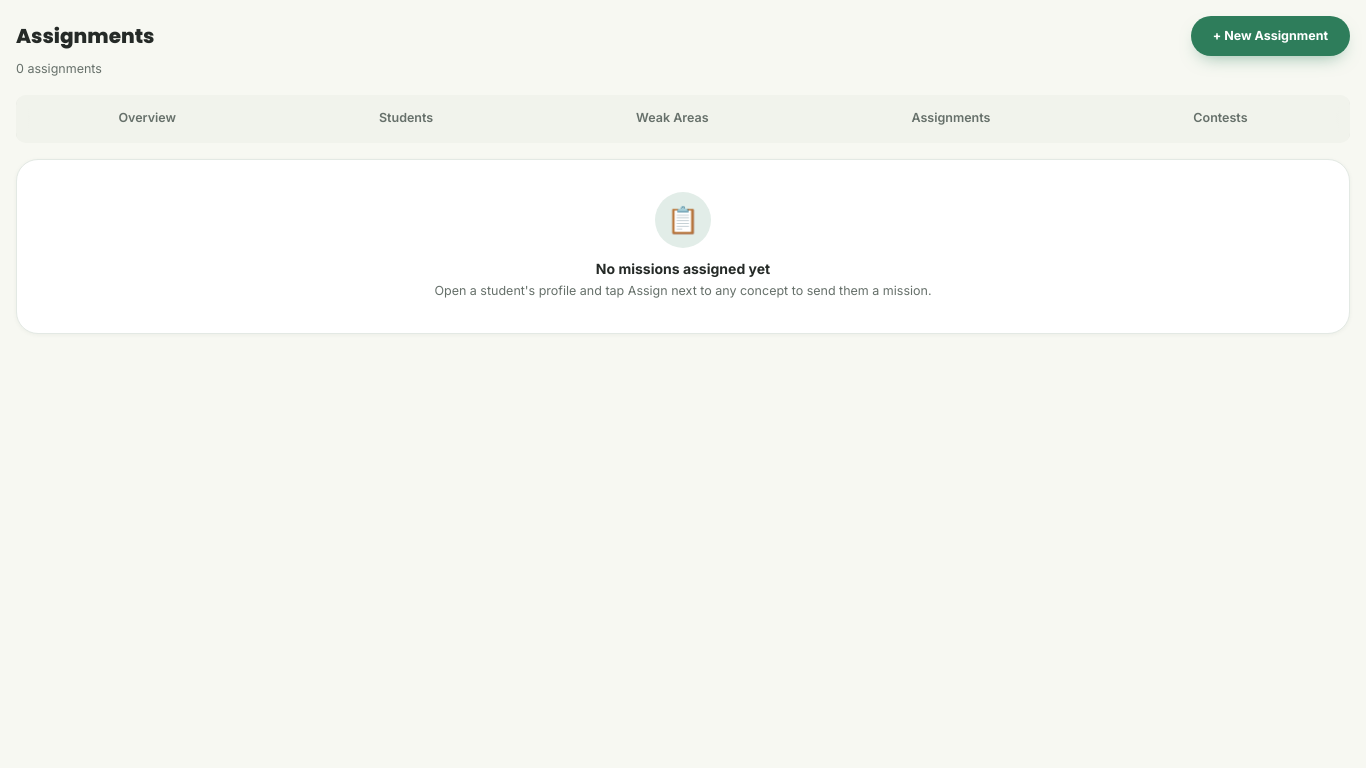
Test: TeacherAssignments › New Assignment modal: shows an empty state when the teacher has no sections
expect the text "No missions assigned yet" is shown: met, box [596,260,770,277]
What coordinates should you click on to do the following:
click the button "+ New Assignment"
I would click on:
 (1270, 36)
Its box is [1191,16,1350,56].
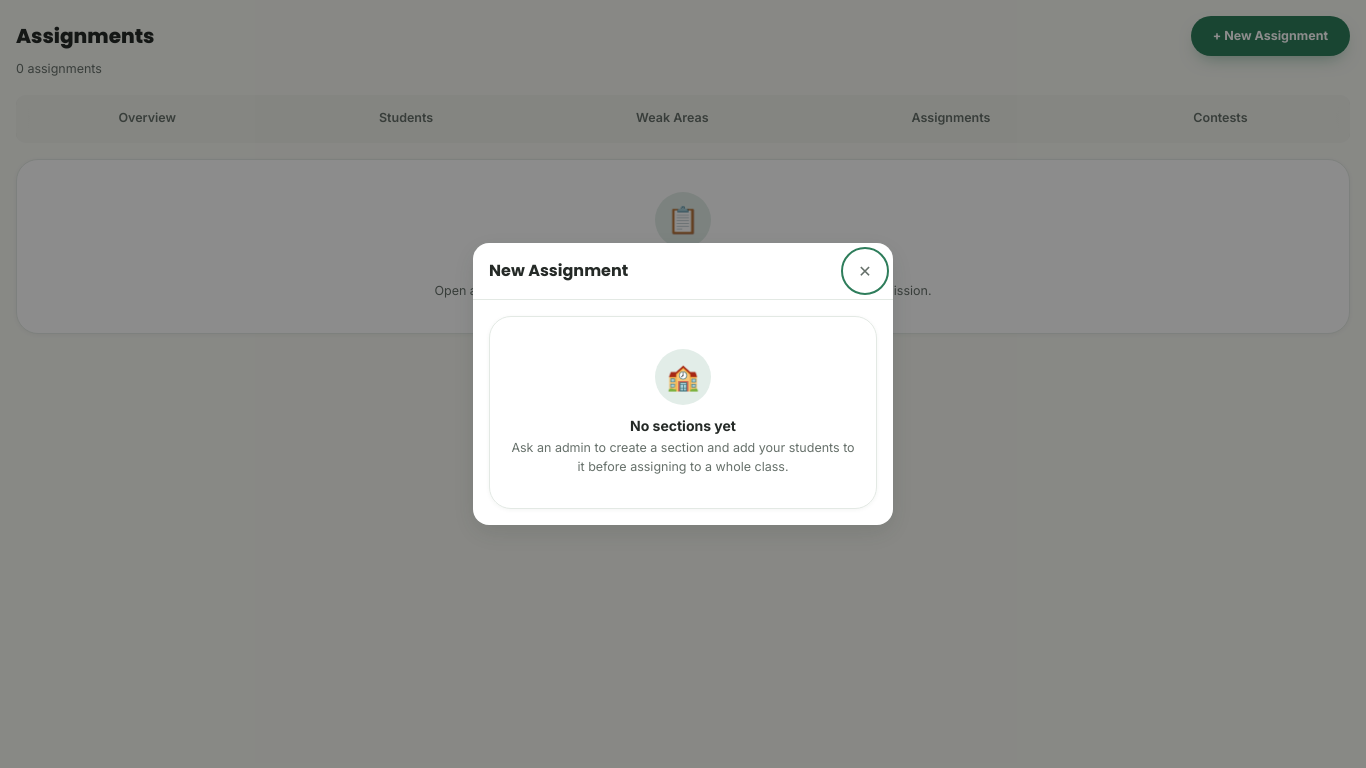
expect the text "No sections yet" is shown: met, box [630,417,736,434]
